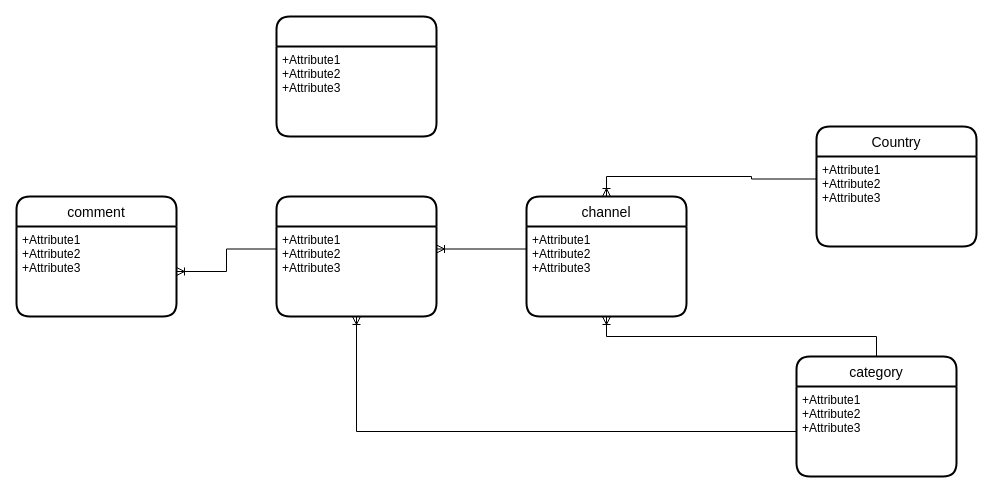
This 993x493 diagram has some shape labels left out. The box of each missing label's shape, as (x1, y1, x2, y2) in pixels:
Date: (275, 15, 437, 137)
video: (275, 195, 437, 317)
